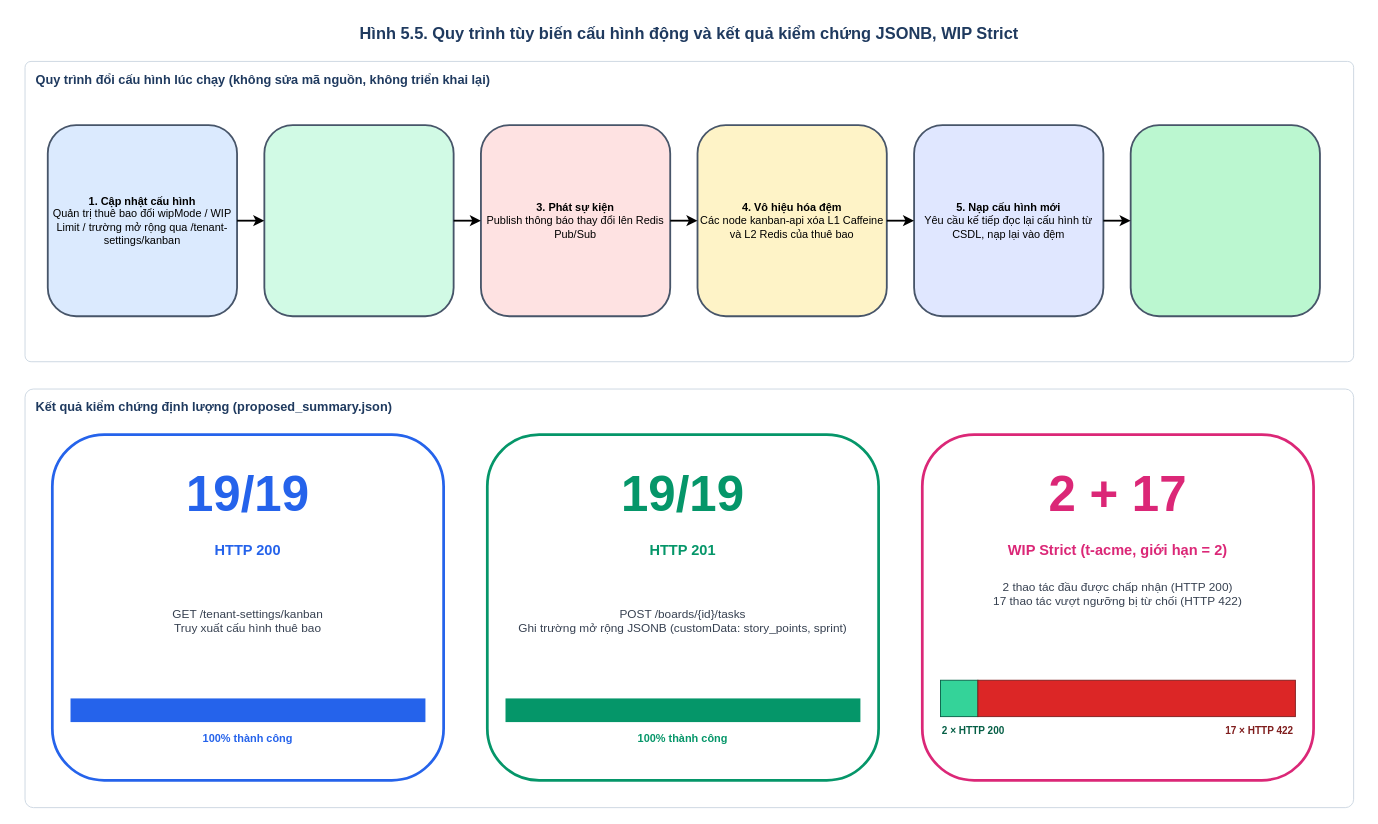
The diagram is 1378 pixels wide and 824 high, and some of its shapes have lost their labels. The centre of each missing label's shape, as x and y in pixels:
2. Lưu vào CSDL PostgreSQL ghi cấu hình riêng của thuê bao (FORCE RLS): [358,220]
6. Áp dụng ngay Thuê bao chạy quy tắc mới; các thuê bao khác không bị ảnh hưởng: [1224,220]
